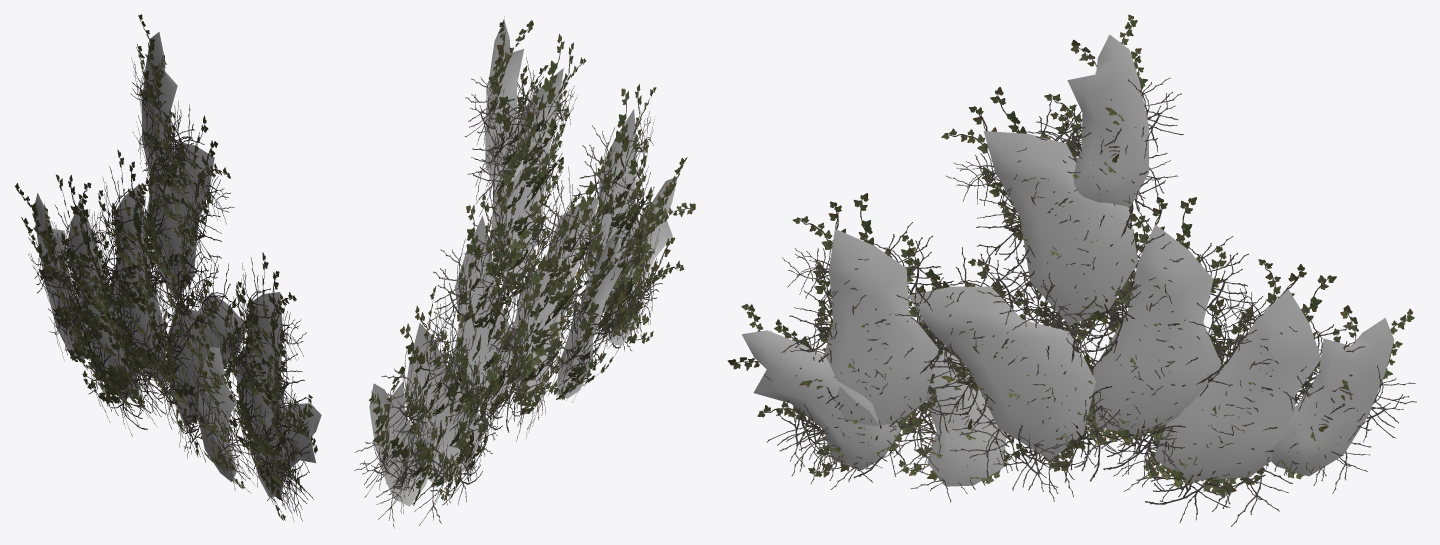
Rendered from ivy05lod0.dae.
The picture shows the model from 3 angles, left to right: view 1: azimuth 30°, elevation 25°; view 2: azimuth 150°, elevation 25°; view 3: azimuth 270°, elevation 25°; orthographic projection. The views are drawn at different scales.
Parts seen in each view (by area): view 1: SM_Ivy_Preset_05_LOD; view 2: SM_Ivy_Preset_05_LOD; view 3: SM_Ivy_Preset_05_LOD.
Boxes of the visible parts, x1,y1,x2,y2 form: SM_Ivy_Preset_05_LOD: (15, 14, 321, 521); SM_Ivy_Preset_05_LOD: (354, 16, 695, 528); SM_Ivy_Preset_05_LOD: (727, 14, 1416, 526).
Size of the model in its own units: 0.5689 by 5.29 by 6.6.
